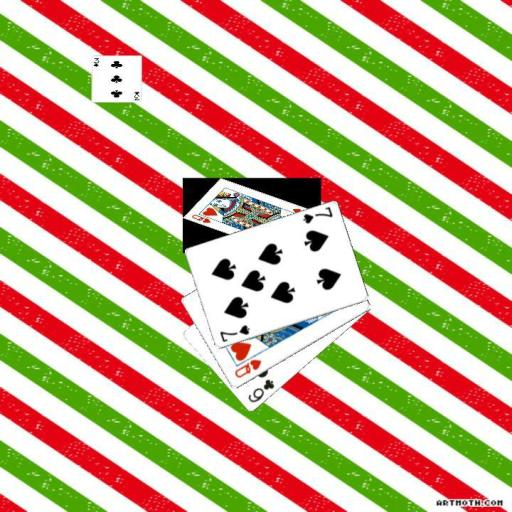6C: (245, 376, 276, 405)
7S: (300, 204, 335, 226), (217, 322, 251, 344)
QH: (231, 356, 263, 380)
